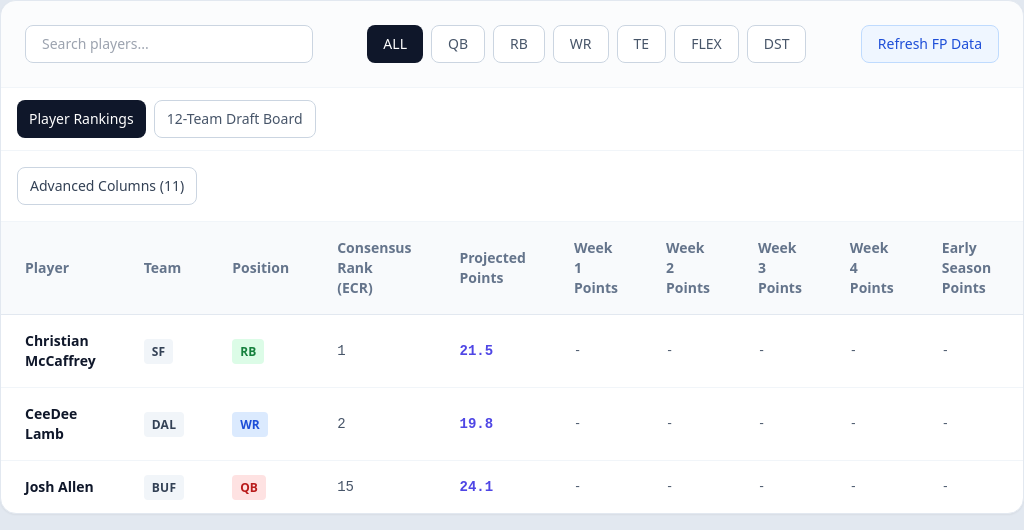
it: DashboardClient › filters by FLEX button to show only RB, WR, and TE
The image size is (1024, 530).
Click the button with test id "position-filter-flex" at {"x": 706, "y": 44}, box [674,25,739,63]
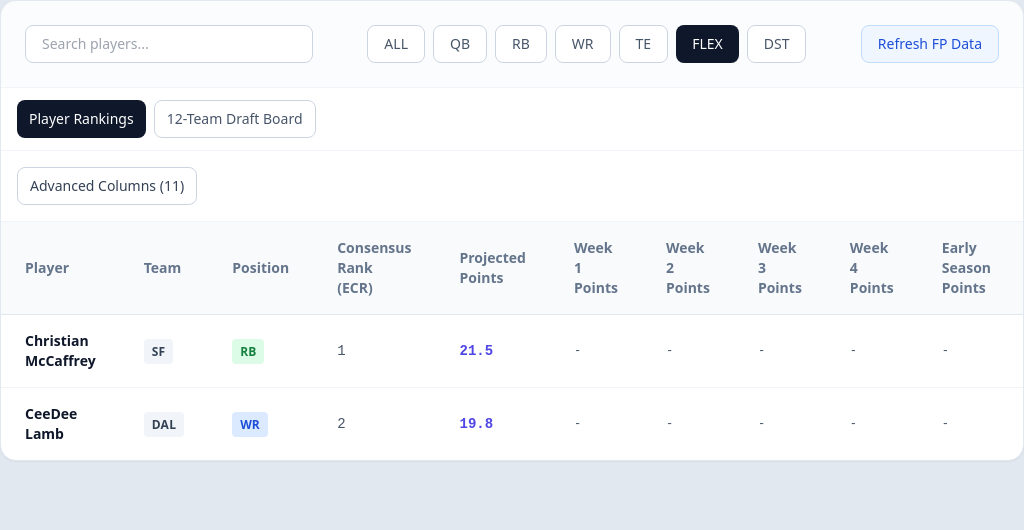
Expected: the text "Christian McCaffrey" is shown, [1,314,120,388]
Expected: the text "Josh Allen" is gone
